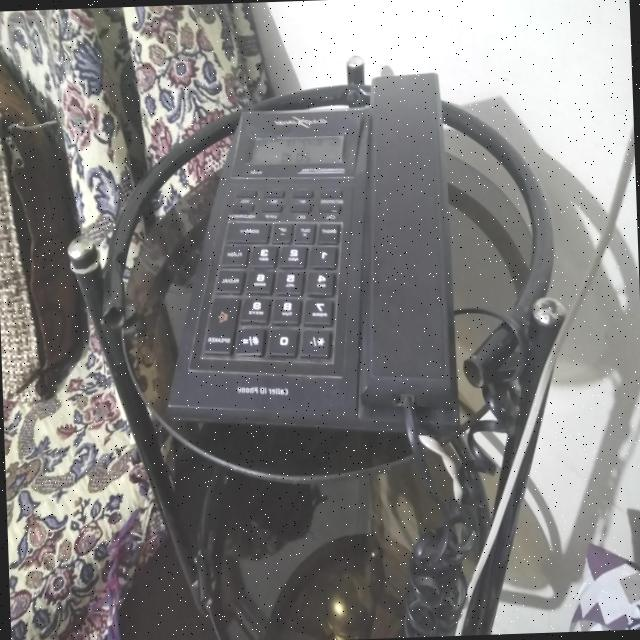Phone: (151, 63, 474, 464)
